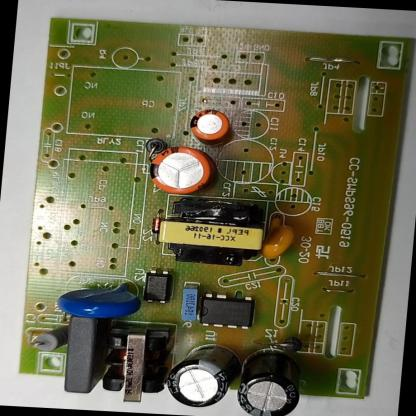Cap1: (146, 143, 216, 196)
Cap2: (187, 104, 233, 145)
Cap3: (163, 339, 242, 410)
Cap4: (234, 345, 304, 416)
MOSFET: (197, 293, 256, 331)
Mov: (54, 277, 144, 321)
Resistor: (30, 322, 70, 355)
Transformer: (152, 199, 268, 270), (95, 327, 168, 404)
